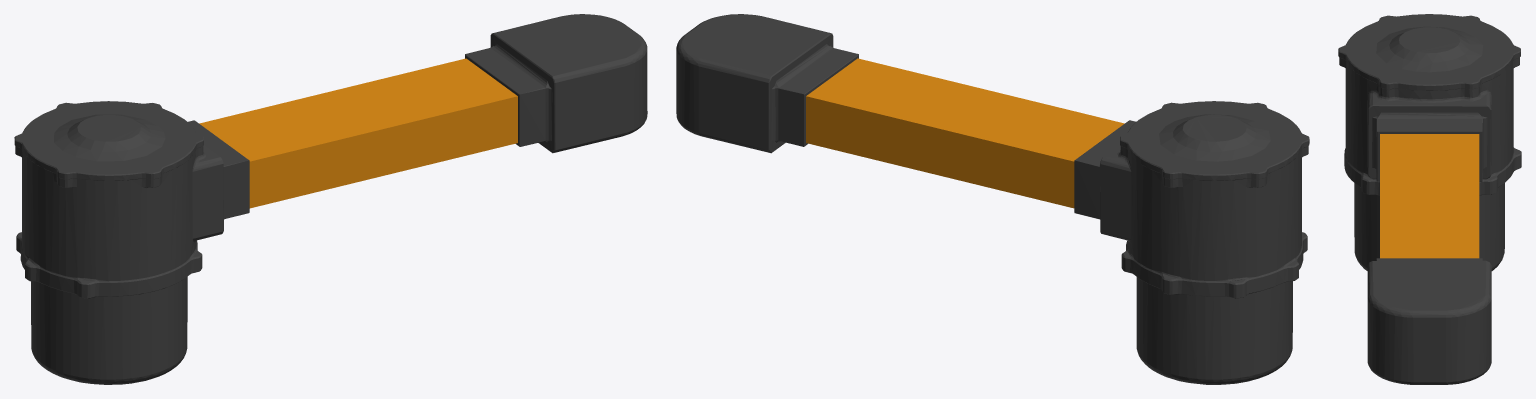
File: j3_arm_link_1_collision.dae
3 renders of one model, left to right at view 1: azimuth 30°, elevation 25°; view 2: azimuth 150°, elevation 25°; view 3: azimuth 270°, elevation 25°, orthographic. The views are drawn at different scales.
Visible parts, largest first — view 1: Arm_one; view 2: Arm_one; view 3: Arm_one.
Part boxes in pixels (<box>): Arm_one: <box>14,14,647,384</box>; Arm_one: <box>676,14,1309,384</box>; Arm_one: <box>1338,14,1521,384</box>.
Size of the model in its own units: 0.5427 by 0.1473 by 0.1943.
